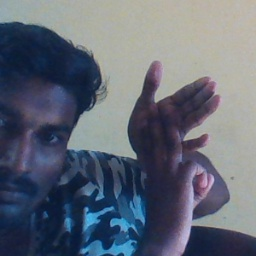M: (120, 62, 235, 205)
